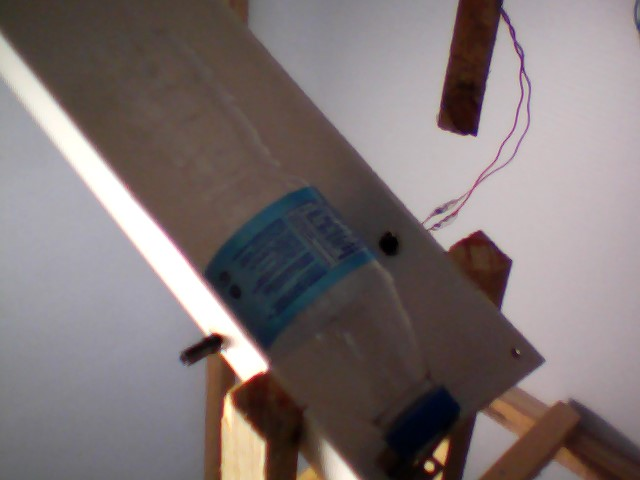plastico: (67, 18, 471, 463)
